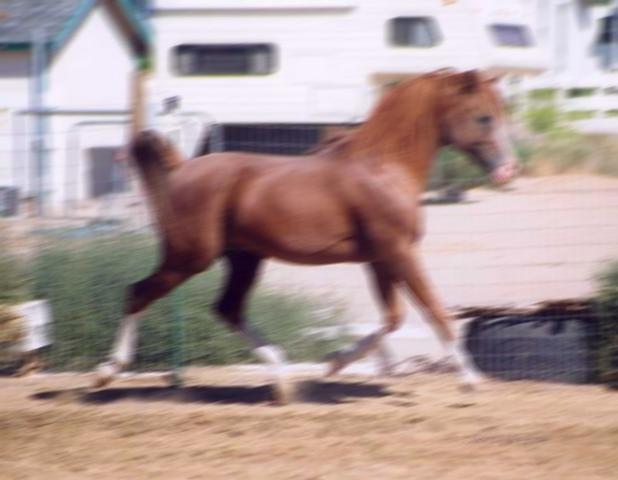horse: (90, 65, 520, 405)
